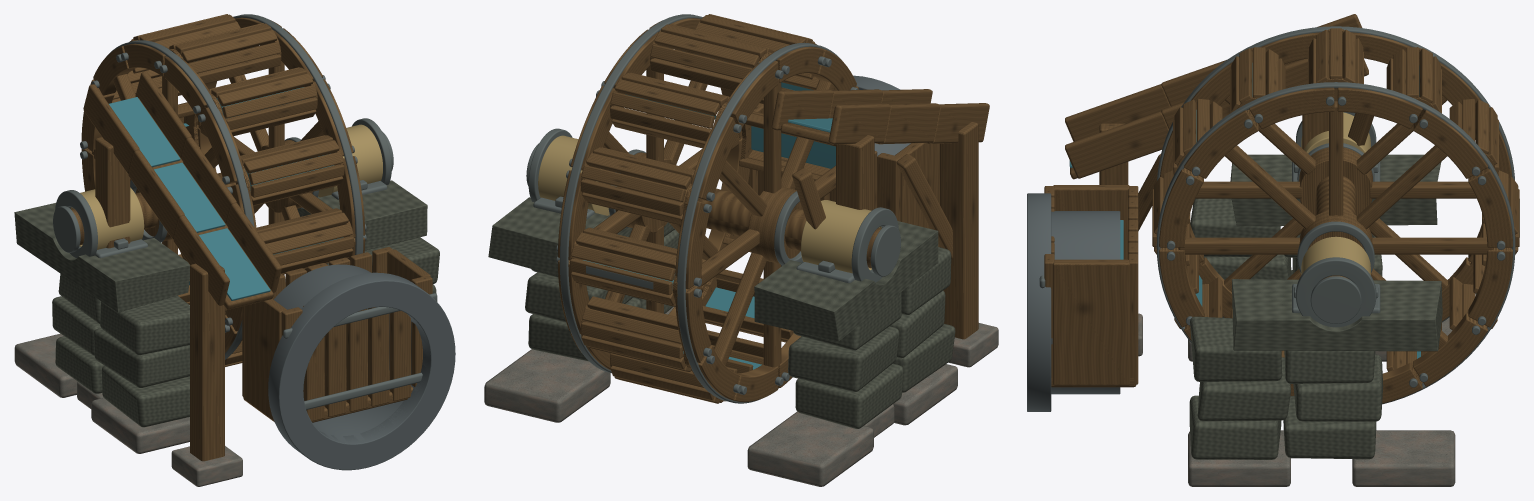
The model's file is stone-water-wheel-v2.glb.
3 renders of one model, left to right at view 1: azimuth 30°, elevation 25°; view 2: azimuth 150°, elevation 25°; view 3: azimuth 270°, elevation 25°, orthographic. The views are drawn at different scales.
Parts seen in each view (by area): view 1: Outlet | canonical collar, V2 masonry | carved bearing saddle, Outlet | canonical full bore throat, V2 race | timber upright, V2 masonry | fitted coursed bearing pier.004, V2 masonry | carved bearing saddle.001, V2 receiver | separate side stave, V2 masonry | fitted coursed bearing pier, V2 masonry | fitted coursed bearing pier.002, V2 footing | inset separate structural foot, V2 race | timber upright.001, V2 race | shallow flowing water (+65 smaller); view 2: V2 masonry | carved bearing saddle, V2 race | timber upright, V2 footing | inset separate structural foot.001, V2 footing | inset separate structural foot.003, V2 masonry | fitted coursed bearing pier.003, V2 masonry | carved bearing saddle.001, V2 masonry | fitted coursed bearing pier.001, V2 rim | thin forged tyre, V2 rim | thin forged tyre.001, V2 bearing | hollow bronze sleeve, V2 race | timber upright.001, V2 axle | turned through-shaft (+76 smaller); view 3: V2 masonry | carved bearing saddle.001, V2 receiver | separate side stave.001, V2 footing | inset separate structural foot.003, Outlet | canonical collar, V2 masonry | carved bearing saddle, V2 masonry | fitted coursed bearing pier.010, Outlet | canonical full bore throat, V2 race | supported side board.001, V2 masonry | fitted coursed bearing pier.006, V2 masonry | fitted coursed bearing pier.008, V2 masonry | fitted coursed bearing pier.007, V2 masonry | fitted coursed bearing pier.009 (+63 smaller).
Part boxes in pixels (x1,y1,x2,y2): Outlet | canonical collar: [268, 272, 455, 470]; V2 masonry | carved bearing saddle: [14, 203, 189, 312]; Outlet | canonical full bore throat: [274, 264, 440, 454]; V2 race | timber upright: [190, 263, 224, 461]; V2 masonry | fitted coursed bearing pier.004: [100, 295, 189, 355]; V2 masonry | carved bearing saddle.001: [297, 180, 427, 250]; V2 receiver | separate side stave: [244, 299, 286, 420]; V2 masonry | fitted coursed bearing pier: [101, 366, 189, 427]; V2 masonry | fitted coursed bearing pier.002: [93, 328, 189, 387]; V2 footing | inset separate structural foot: [91, 398, 189, 453]; V2 race | timber upright.001: [95, 137, 130, 248]; V2 race | shallow flowing water: [199, 228, 270, 300]; V2 masonry | carved bearing saddle: [754, 221, 938, 341]; V2 race | timber upright: [940, 122, 978, 339]; V2 footing | inset separate structural foot.001: [747, 411, 873, 486]; V2 footing | inset separate structural foot.003: [484, 349, 610, 422]; V2 masonry | fitted coursed bearing pier.003: [788, 326, 899, 391]; V2 masonry | carved bearing saddle.001: [488, 197, 632, 275]; V2 masonry | fitted coursed bearing pier.001: [795, 363, 903, 428]; V2 rim | thin forged tyre: [677, 42, 856, 403]; V2 rim | thin forged tyre.001: [559, 14, 702, 373]; V2 bearing | hollow bronze sleeve: [801, 200, 881, 273]; V2 race | timber upright.001: [836, 135, 874, 210]; V2 axle | turned through-shaft: [599, 169, 881, 268]; V2 masonry | carved bearing saddle.001: [1231, 279, 1442, 351]; V2 receiver | separate side stave.001: [1052, 259, 1129, 385]; V2 footing | inset separate structural foot.003: [1352, 430, 1455, 486]; Outlet | canonical collar: [1027, 193, 1051, 411]; V2 masonry | carved bearing saddle: [1230, 154, 1441, 226]; V2 masonry | fitted coursed bearing pier.010: [1190, 316, 1282, 381]; Outlet | canonical full bore throat: [1051, 211, 1120, 394]; V2 race | supported side board.001: [1065, 111, 1168, 178]; V2 masonry | fitted coursed bearing pier.006: [1189, 395, 1281, 459]; V2 masonry | fitted coursed bearing pier.008: [1197, 357, 1290, 421]; V2 masonry | fitted coursed bearing pier.007: [1283, 396, 1376, 459]; V2 masonry | fitted coursed bearing pier.009: [1293, 354, 1383, 421].
Bounding box in the file's own units: 1.23 × 1.22 × 1.53.
Materials: 8 (4 with a texture image).
